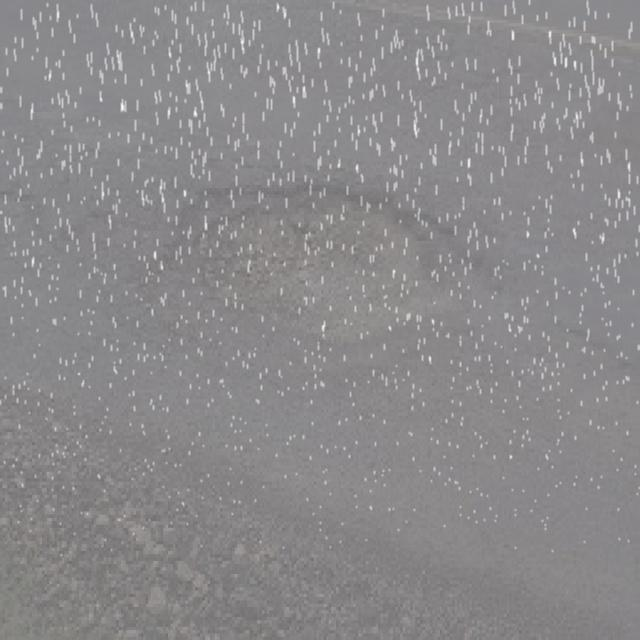Pothole: (163, 173, 480, 357)
